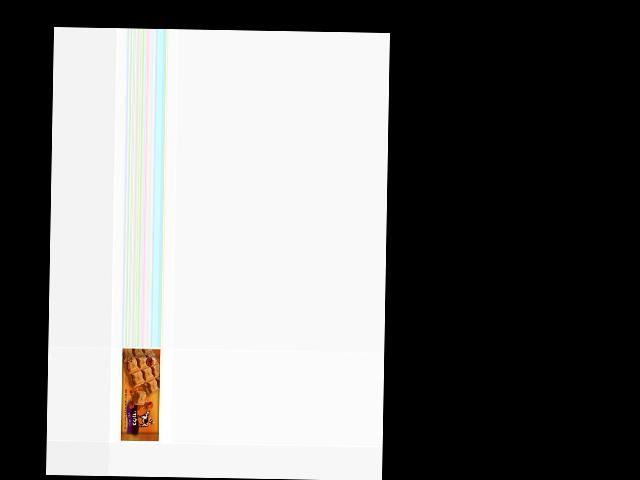chocolate: (117, 348, 159, 444)
